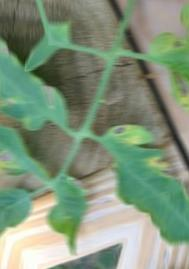Tomato Early blight leaf: (80, 108, 189, 218), (22, 167, 121, 266), (0, 64, 84, 155), (135, 24, 189, 140), (0, 108, 56, 197)
Tomato leaf: (0, 174, 45, 241)
